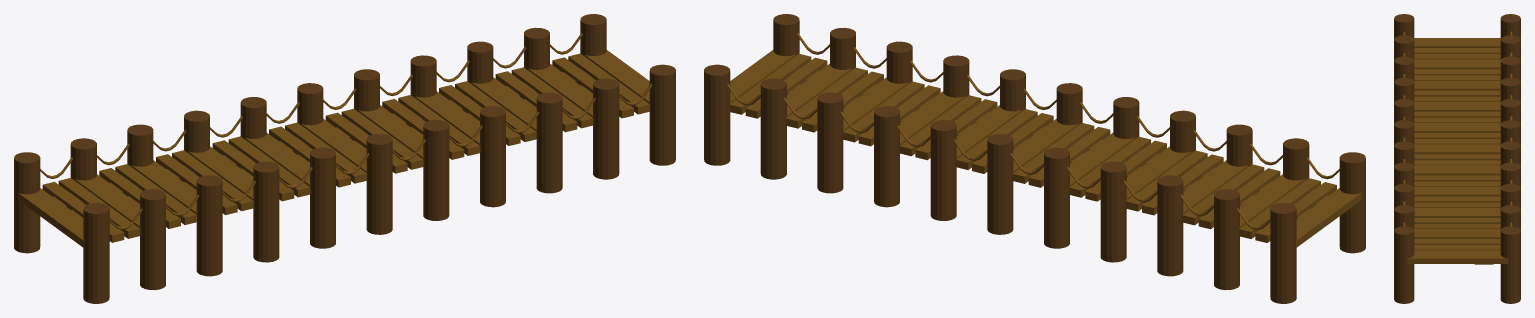
The model's file is dock.fbx.
The picture shows the model from 3 angles, left to right: view 1: azimuth 30°, elevation 25°; view 2: azimuth 150°, elevation 25°; view 3: azimuth 270°, elevation 25°; orthographic projection. The views are drawn at different scales.
Parts seen in each view (by area): view 1: Cube.001; view 2: Cube.001; view 3: Cube.001.
Boxes of the visible parts, x1,y1,x2,y2 form: Cube.001: (14, 14, 675, 303); Cube.001: (704, 14, 1365, 303); Cube.001: (1394, 14, 1520, 303).
Size of the model in its own units: 1316 by 192 by 319.
